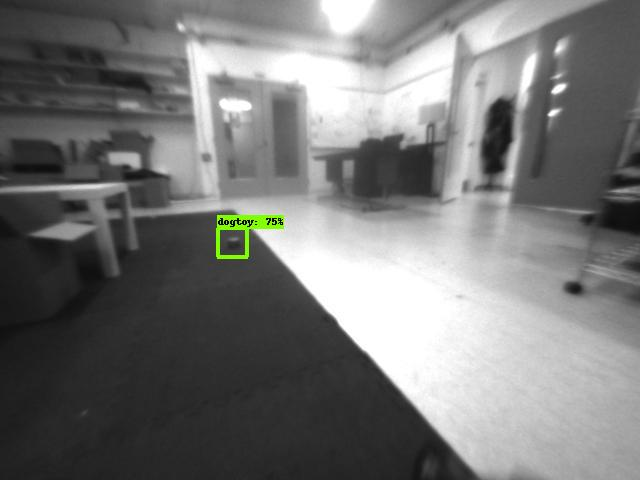dogtoy: (217, 230, 245, 252)
